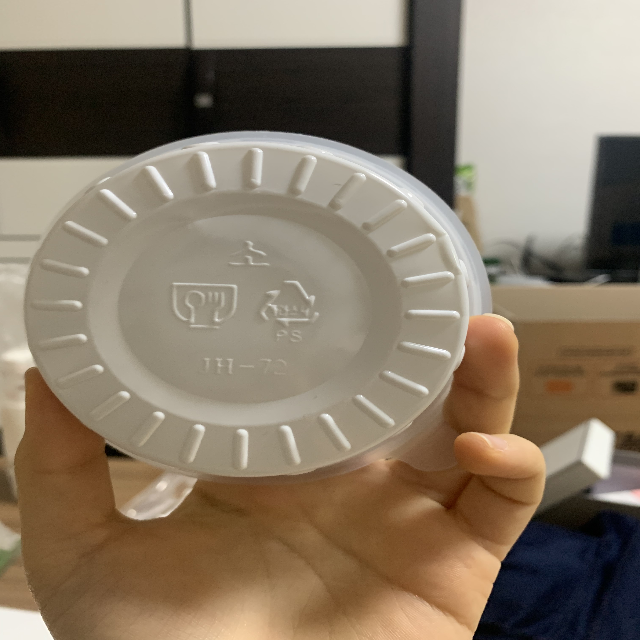ps: (255, 276, 320, 347)
